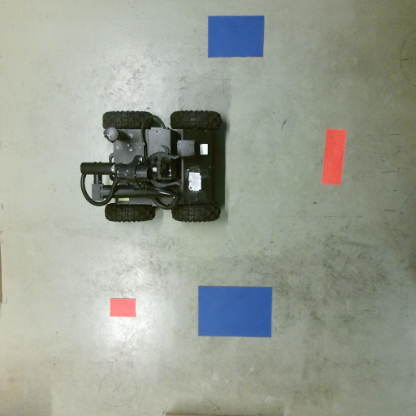Blue: (195, 283, 273, 340), (205, 13, 265, 59)
Jaguar: (79, 108, 224, 226)
Red: (321, 126, 346, 185), (108, 296, 136, 316)
